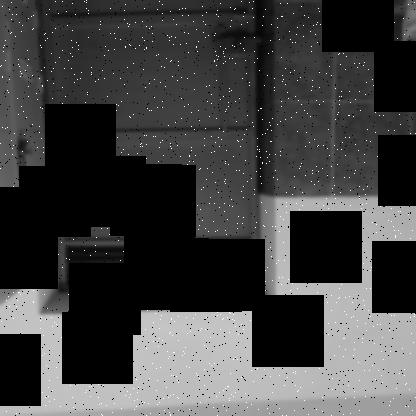Porte: (38, 1, 264, 297)
